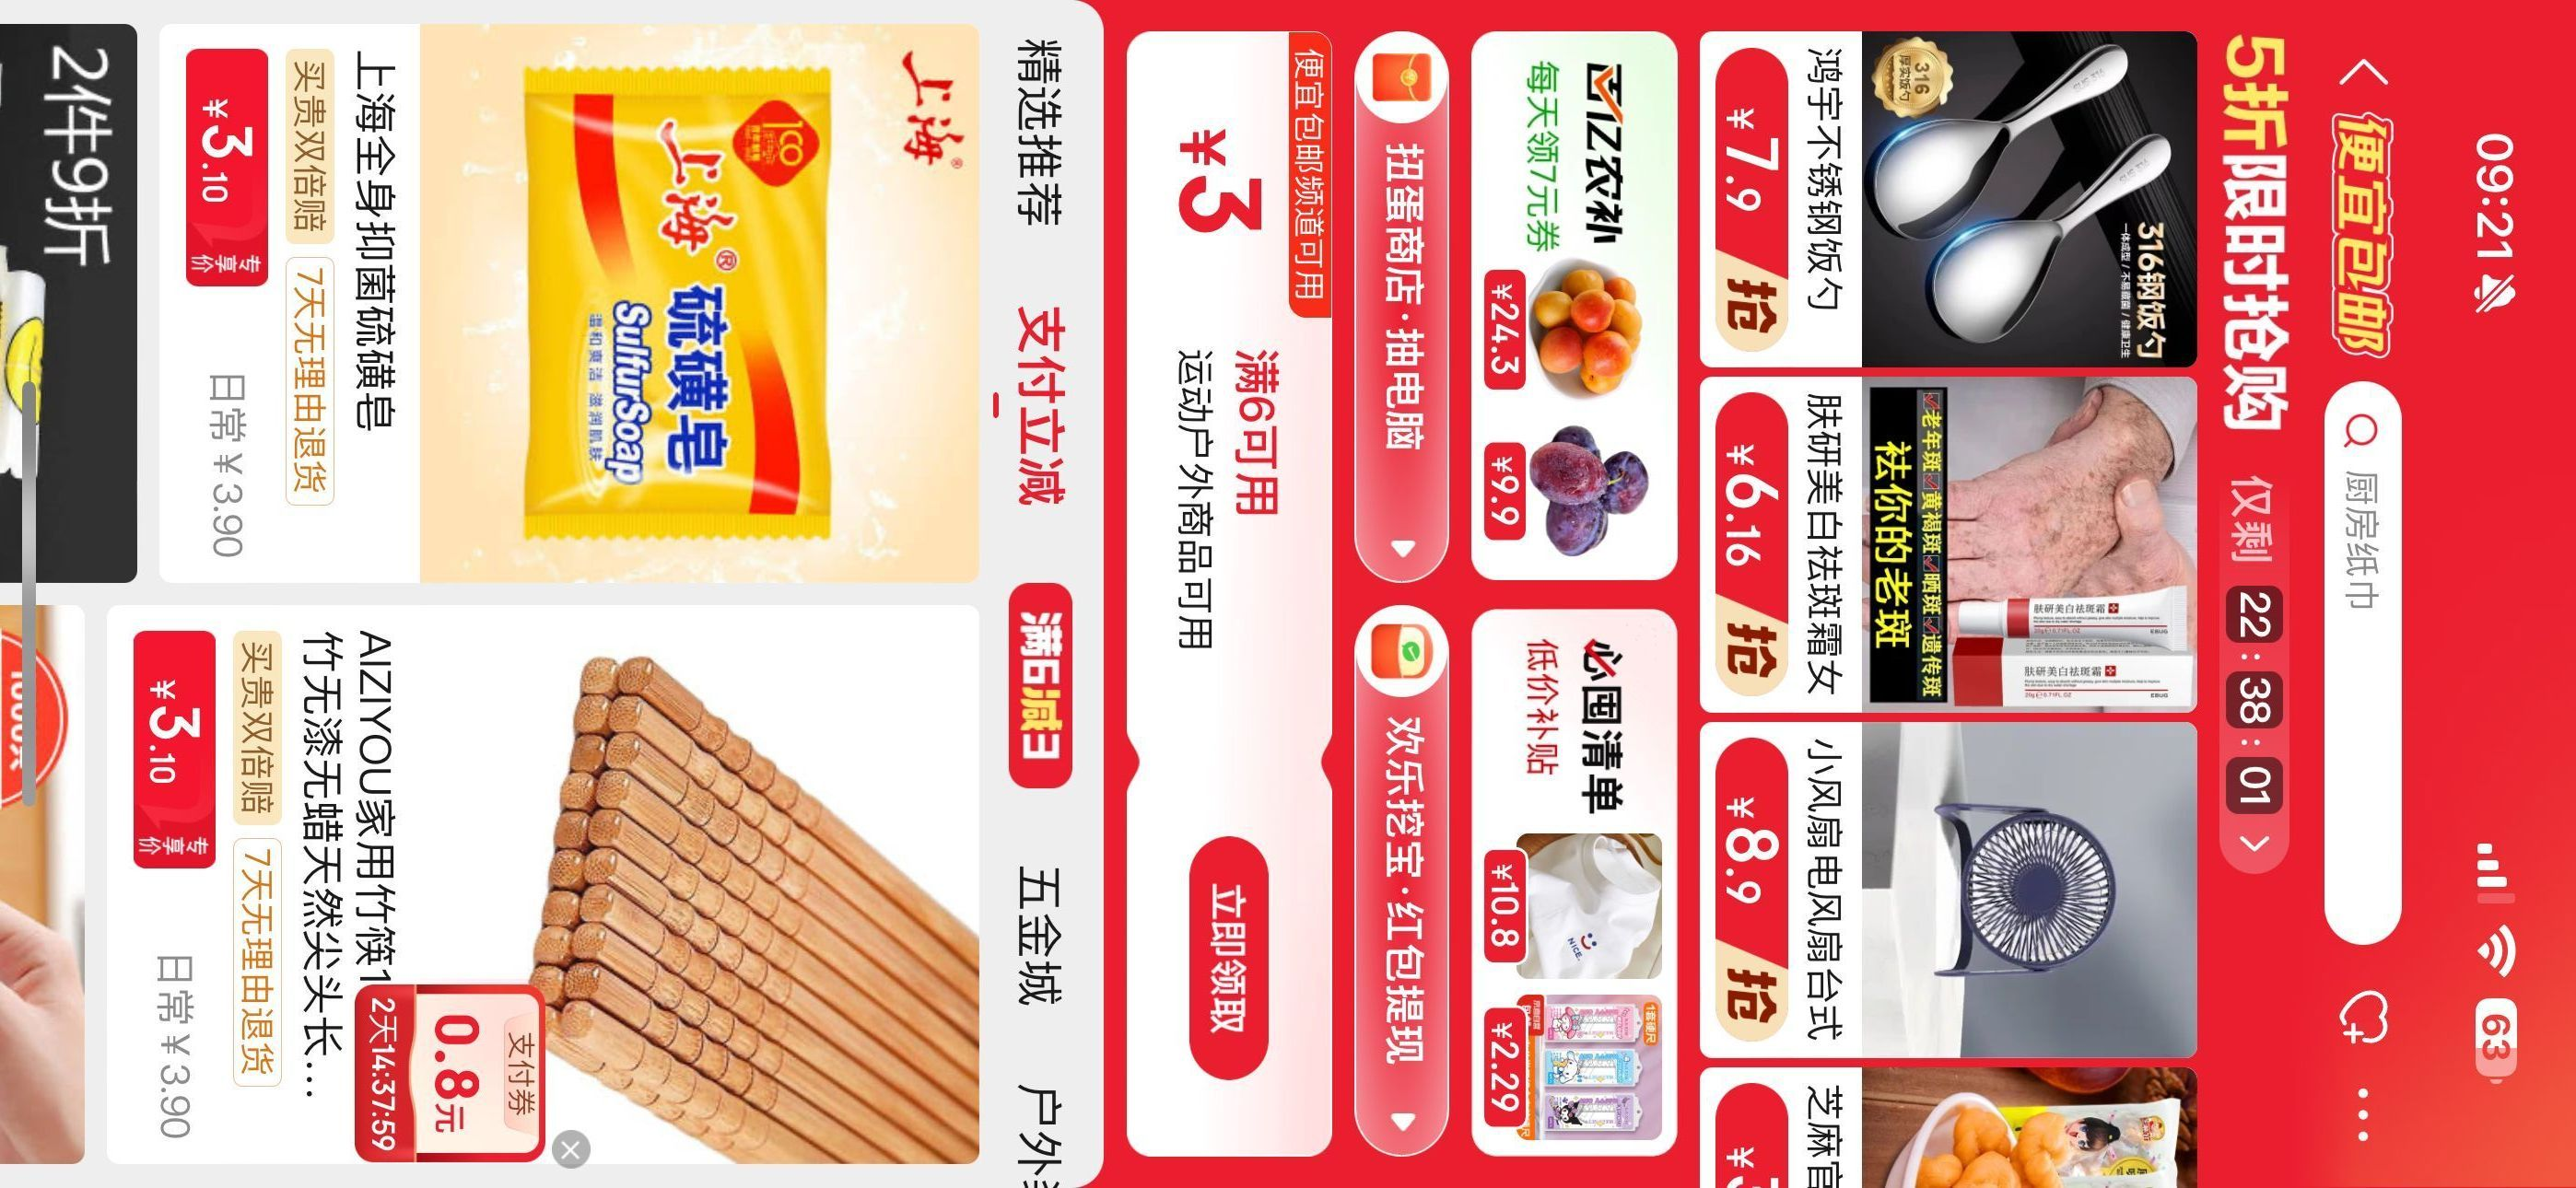banner: (1117, 7, 1345, 1188)
item: (94, 593, 994, 1173), (138, 10, 996, 598)
op_bar: (2297, 2, 2430, 1188)
seckill: (1350, 2, 2216, 1188)
